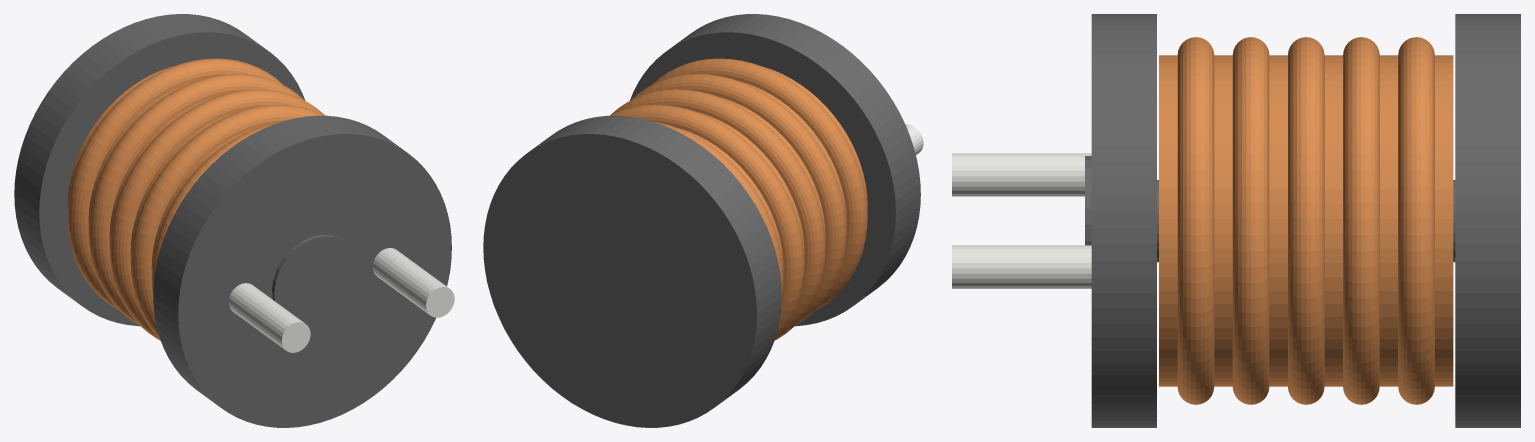
File: L_Radial_D9.5mm_P5.00mm_Fastron_07HVP.glb
3 views of the same model, side by side, from view 1: azimuth 30°, elevation 25°; view 2: azimuth 150°, elevation 25°; view 3: azimuth 270°, elevation 25° (orthographic). The views are drawn at different scales.
Parts seen in each view (by area): view 1: Shape_IndexedFaceSet.009, Shape_IndexedFaceSet.024, Shape_IndexedFaceSet.007, Shape_IndexedFaceSet.025, Shape_IndexedFaceSet.020, Shape_IndexedFaceSet.010, Shape_IndexedFaceSet.018, Shape_IndexedFaceSet.006, Shape_IndexedFaceSet.016, Shape_IndexedFaceSet.013, Shape_IndexedFaceSet.011, Shape_IndexedFaceSet.002 (+7 smaller); view 2: Shape_IndexedFaceSet.026, Shape_IndexedFaceSet.005, Shape_IndexedFaceSet.025, Shape_IndexedFaceSet.007, Shape_IndexedFaceSet.002, Shape_IndexedFaceSet.010, Shape_IndexedFaceSet.006, Shape_IndexedFaceSet.018, Shape_IndexedFaceSet.020, Shape_IndexedFaceSet.019, Shape_IndexedFaceSet.008, Shape_IndexedFaceSet (+2 smaller); view 3: Shape_IndexedFaceSet.007, Shape_IndexedFaceSet.025, Shape_IndexedFaceSet.006, Shape_IndexedFaceSet.002, Shape_IndexedFaceSet.020, Shape_IndexedFaceSet.010, Shape_IndexedFaceSet.018, Shape_IndexedFaceSet, Shape_IndexedFaceSet.004, Shape_IndexedFaceSet.008, Shape_IndexedFaceSet.014, Shape_IndexedFaceSet.019 (+4 smaller).
Part boxes in pixels (x1,y1,x2,y2): Shape_IndexedFaceSet.009: (178, 134, 451, 427); Shape_IndexedFaceSet.024: (39, 32, 304, 325); Shape_IndexedFaceSet.007: (153, 115, 451, 427); Shape_IndexedFaceSet.025: (14, 14, 305, 326); Shape_IndexedFaceSet.020: (67, 58, 282, 309); Shape_IndexedFaceSet.010: (109, 89, 324, 340); Shape_IndexedFaceSet.018: (88, 74, 304, 324); Shape_IndexedFaceSet.006: (130, 104, 324, 339); Shape_IndexedFaceSet.016: (274, 236, 360, 328); Shape_IndexedFaceSet.013: (228, 283, 303, 349); Shape_IndexedFaceSet.011: (372, 248, 448, 314); Shape_IndexedFaceSet.002: (151, 121, 281, 296); Shape_IndexedFaceSet.026: (483, 134, 756, 427); Shape_IndexedFaceSet.005: (630, 32, 895, 325); Shape_IndexedFaceSet.025: (483, 115, 781, 427); Shape_IndexedFaceSet.007: (630, 14, 920, 326); Shape_IndexedFaceSet.002: (652, 58, 867, 309); Shape_IndexedFaceSet.010: (610, 89, 825, 340); Shape_IndexedFaceSet.006: (631, 74, 846, 324); Shape_IndexedFaceSet.018: (611, 104, 804, 339); Shape_IndexedFaceSet.020: (653, 121, 783, 295); Shape_IndexedFaceSet.019: (679, 128, 783, 269); Shape_IndexedFaceSet.008: (721, 97, 825, 239); Shape_IndexedFaceSet: (762, 66, 867, 210); Shape_IndexedFaceSet.007: (1091, 14, 1156, 427); Shape_IndexedFaceSet.025: (1455, 14, 1520, 427); Shape_IndexedFaceSet.006: (1232, 37, 1269, 404); Shape_IndexedFaceSet.002: (1177, 37, 1214, 404); Shape_IndexedFaceSet.020: (1398, 37, 1434, 404); Shape_IndexedFaceSet.010: (1288, 37, 1324, 404); Shape_IndexedFaceSet.018: (1343, 37, 1379, 404); Shape_IndexedFaceSet: (1159, 55, 1177, 386); Shape_IndexedFaceSet.004: (1214, 55, 1232, 386); Shape_IndexedFaceSet.008: (1269, 55, 1287, 386); Shape_IndexedFaceSet.014: (1324, 55, 1342, 386); Shape_IndexedFaceSet.019: (1379, 55, 1397, 386).
Bounding box in the file's own units: 3.74 × 3.74 × 5.14.
